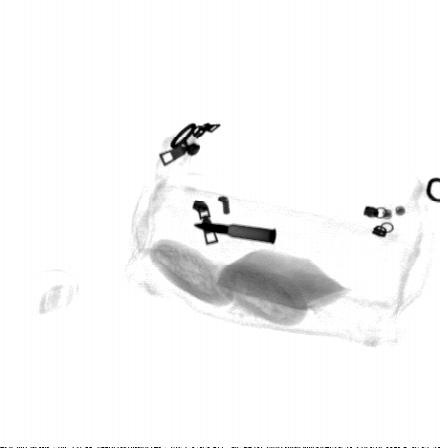Bullet: (191, 223, 278, 242)
